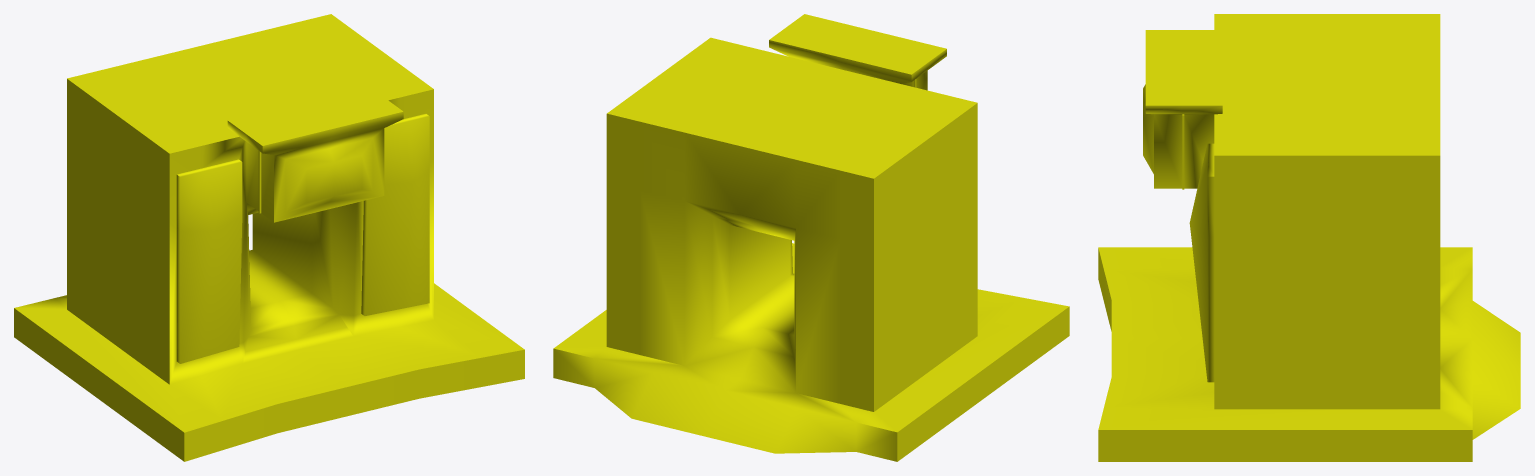
File: mdl_ciudadela_casa_templo.fbx
3 views of the same model, side by side, from view 1: azimuth 30°, elevation 25°; view 2: azimuth 150°, elevation 25°; view 3: azimuth 270°, elevation 25° (orthographic). The views are drawn at different scales.
Visible parts, largest first — view 1: mdl_ciudadela_casa_templo; view 2: mdl_ciudadela_casa_templo; view 3: mdl_ciudadela_casa_templo.
Boxes of the visible parts, box(x1,y1,x2,y2) form: mdl_ciudadela_casa_templo: box(14, 14, 524, 461); mdl_ciudadela_casa_templo: box(553, 14, 1069, 461); mdl_ciudadela_casa_templo: box(1098, 14, 1520, 461).
Bounding box in the file's own units: 16.56 × 12.82 × 16.19.
